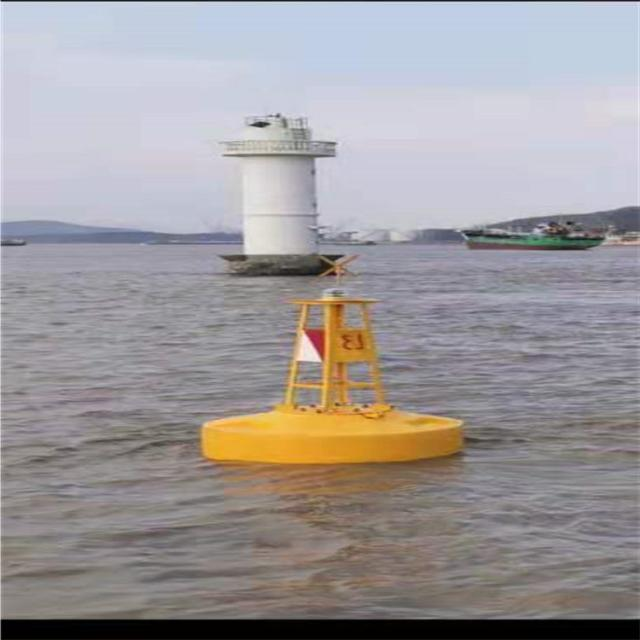buoy: (214, 253, 461, 469)
